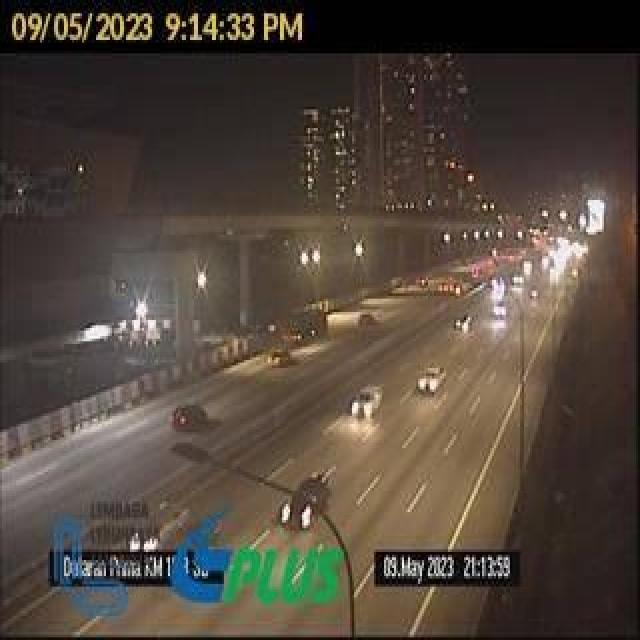Car: (277, 473, 337, 538), (348, 382, 386, 419), (168, 401, 213, 430), (415, 363, 450, 392), (264, 347, 296, 366), (358, 310, 381, 328), (454, 313, 476, 331), (492, 302, 508, 322)
